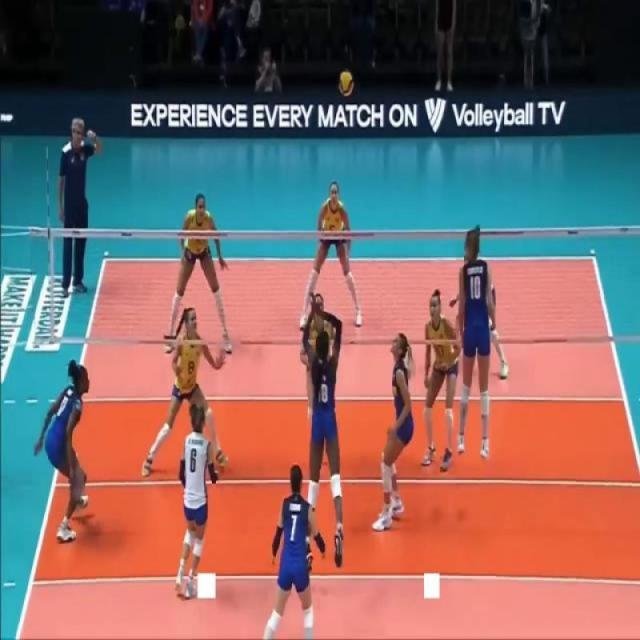volleyball: (338, 71, 354, 98)
